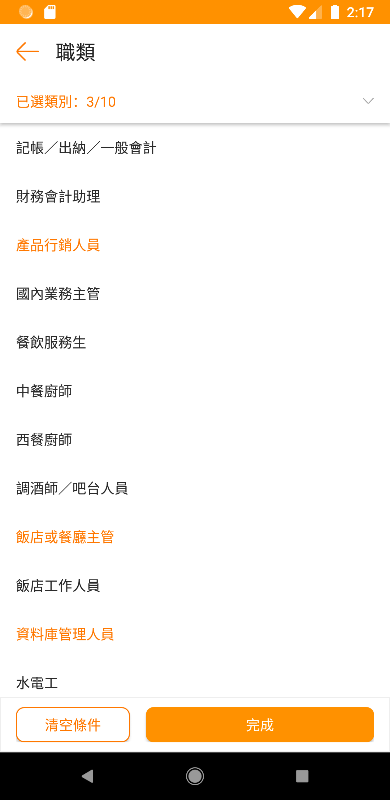button: (143, 704, 382, 746), (12, 699, 134, 745), (12, 32, 43, 68), (353, 86, 380, 113)
